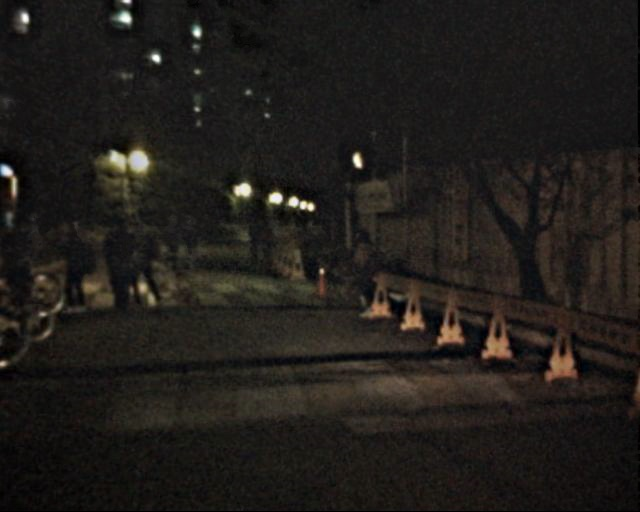person: (8, 207, 50, 309), (59, 213, 97, 305), (125, 214, 161, 303), (344, 229, 380, 316), (107, 218, 142, 304), (177, 212, 202, 274), (162, 213, 186, 271), (245, 219, 263, 263), (255, 216, 273, 259)
